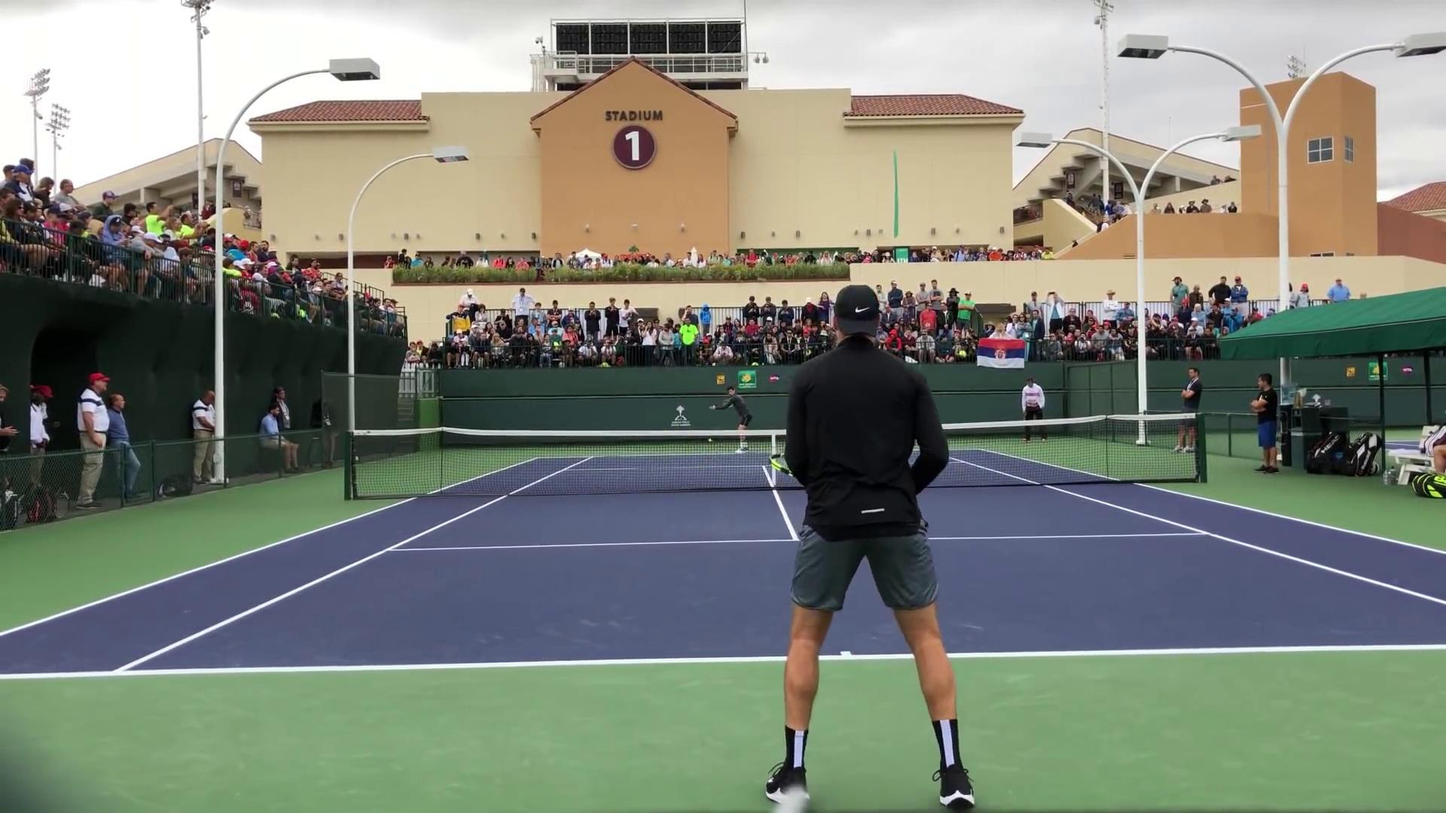ball: (707, 437, 714, 444)
